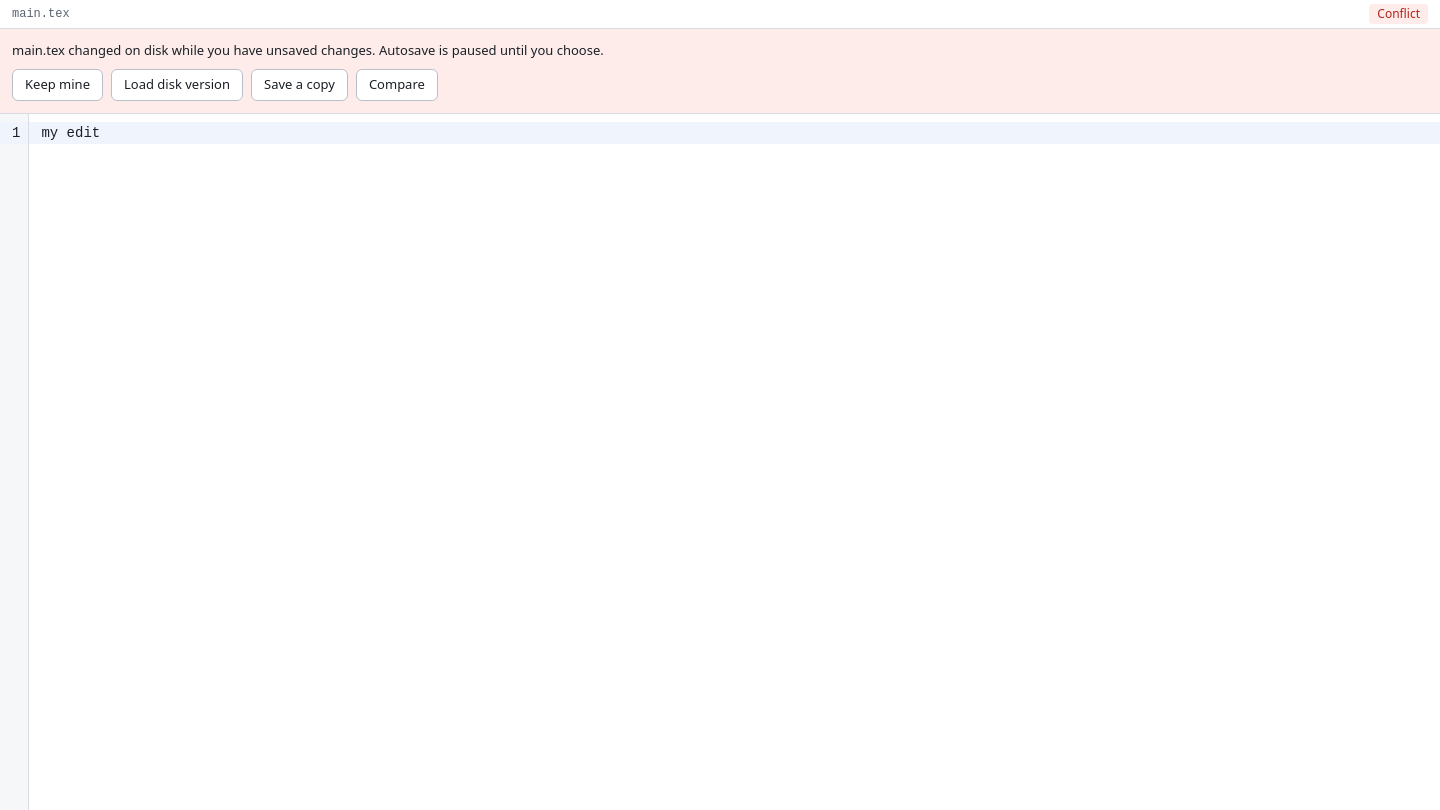
it: EditorPane external changes › Keep mine saves the user's text and closes the banner
Click the button "Keep mine".
click(58, 84)  # box [12, 68, 103, 100]
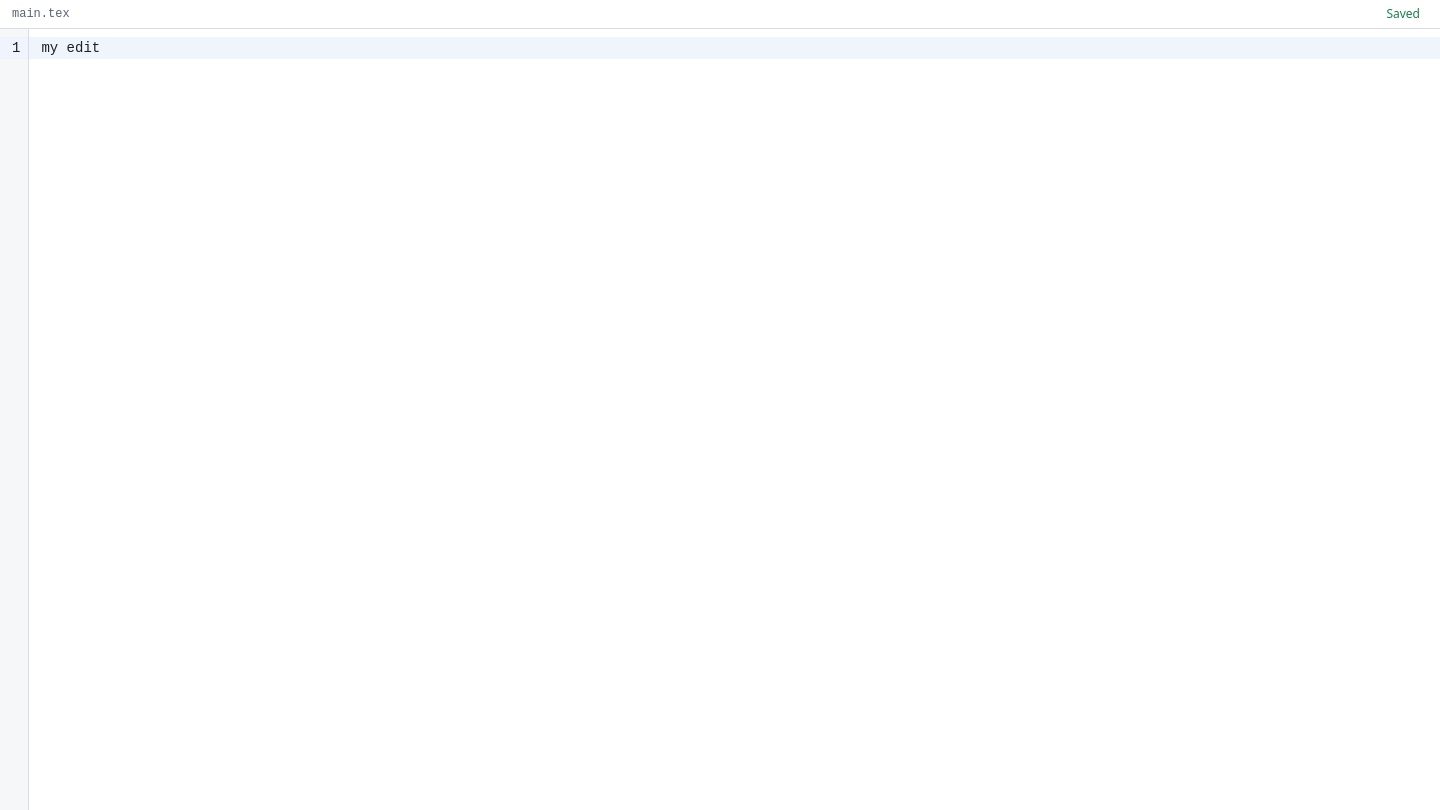
Expected: the text box labelled "my edit" is shown, [29, 37, 1439, 59]
Now the message reads "Saved", box [1386, 5, 1420, 22]
